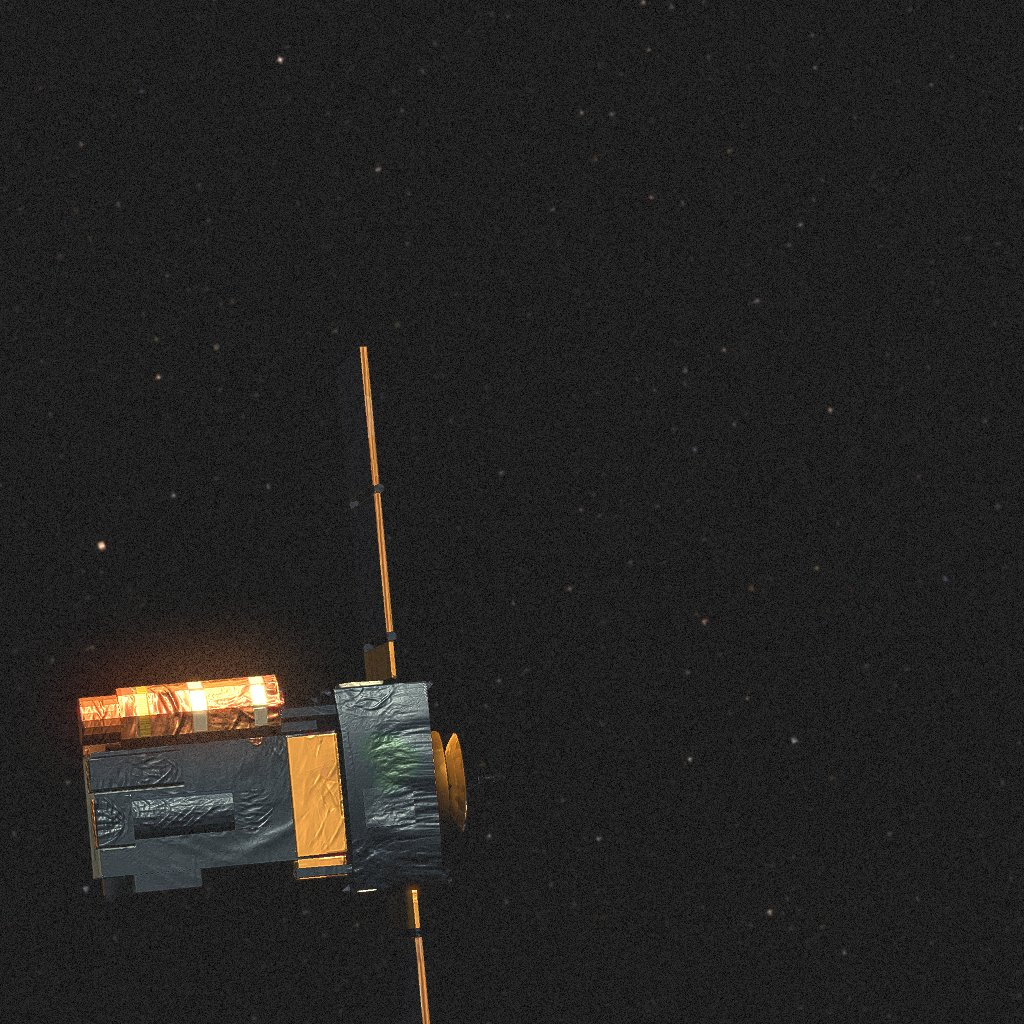soho: (77, 346, 506, 1024)
